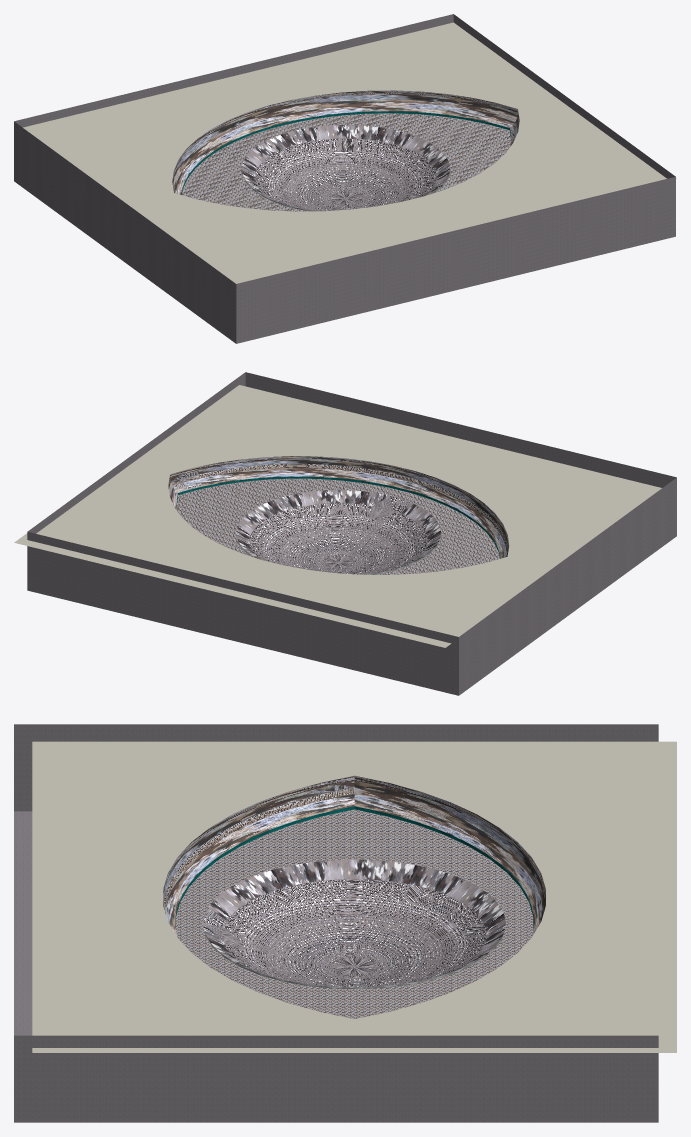
Rendered from transdec_test_collision.obj.
The picture shows the model from 3 angles, top to bottom: view 1: azimuth 30°, elevation 25°; view 2: azimuth 150°, elevation 25°; view 3: azimuth 270°, elevation 25°; orthographic projection. The views are drawn at different scales.
Parts seen in each view (by area): view 1: mesh_2, mesh_3, mesh_1, mesh_5, mesh_4; view 2: mesh_2, mesh_3, mesh_1, mesh_5, mesh_4; view 3: mesh_2, mesh_3, mesh_1, mesh_5, mesh_4, mesh_6.
Boxes of the visible parts, <box> form: mesh_2: <box>23,22,676,283</box>; mesh_3: <box>14,14,675,343</box>; mesh_1: <box>172,90,519,211</box>; mesh_5: <box>242,125,450,211</box>; mesh_4: <box>181,111,510,194</box>; mesh_2: <box>14,385,661,647</box>; mesh_3: <box>27,372,676,695</box>; mesh_1: <box>168,456,509,574</box>; mesh_5: <box>236,490,440,574</box>; mesh_4: <box>177,476,500,558</box>; mesh_2: <box>32,741,676,1052</box>; mesh_3: <box>14,724,658,1122</box>; mesh_1: <box>163,775,545,1018</box>; mesh_5: <box>203,859,505,987</box>; mesh_4: <box>175,806,533,928</box>; mesh_6: <box>203,924,505,988</box>.
Bounding box in the file's own units: 119 × 15.24 × 105.
Materials: 6 (3 with a texture image).
